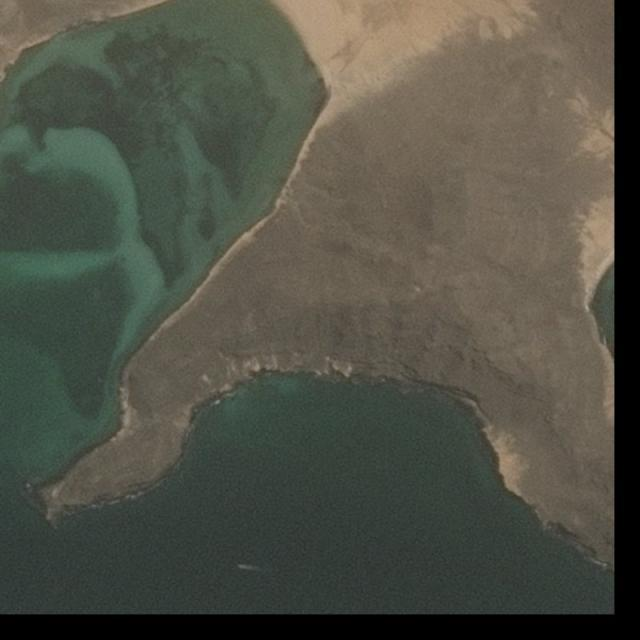ship: (239, 564, 245, 569)
